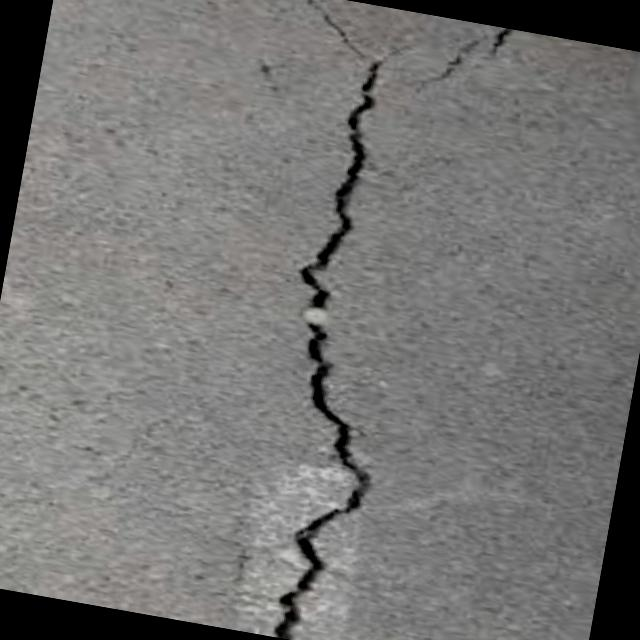crack: (232, 83, 438, 640), (285, 0, 519, 111)
